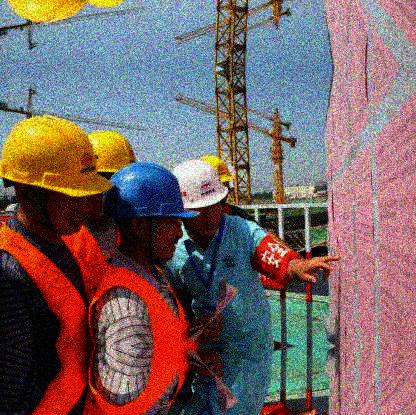helmet: (1, 115, 114, 234), (172, 159, 226, 235)
